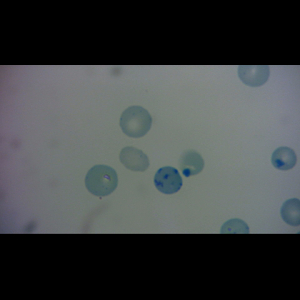aggregate reticulocyte: (152, 165, 184, 196)
erythrocyte: (178, 149, 206, 178), (270, 145, 299, 173)
punctate reticulocyte: (83, 163, 120, 198), (118, 104, 154, 139), (117, 144, 152, 173)
